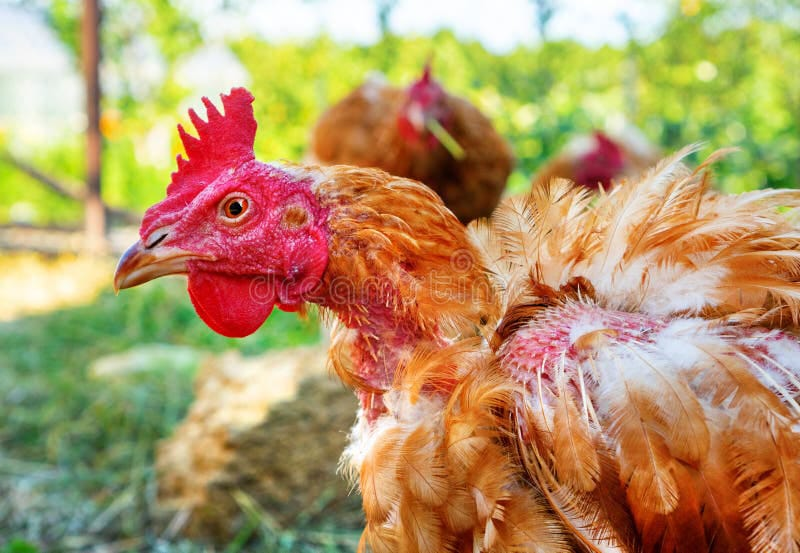Unhealthy: (109, 72, 731, 545)
